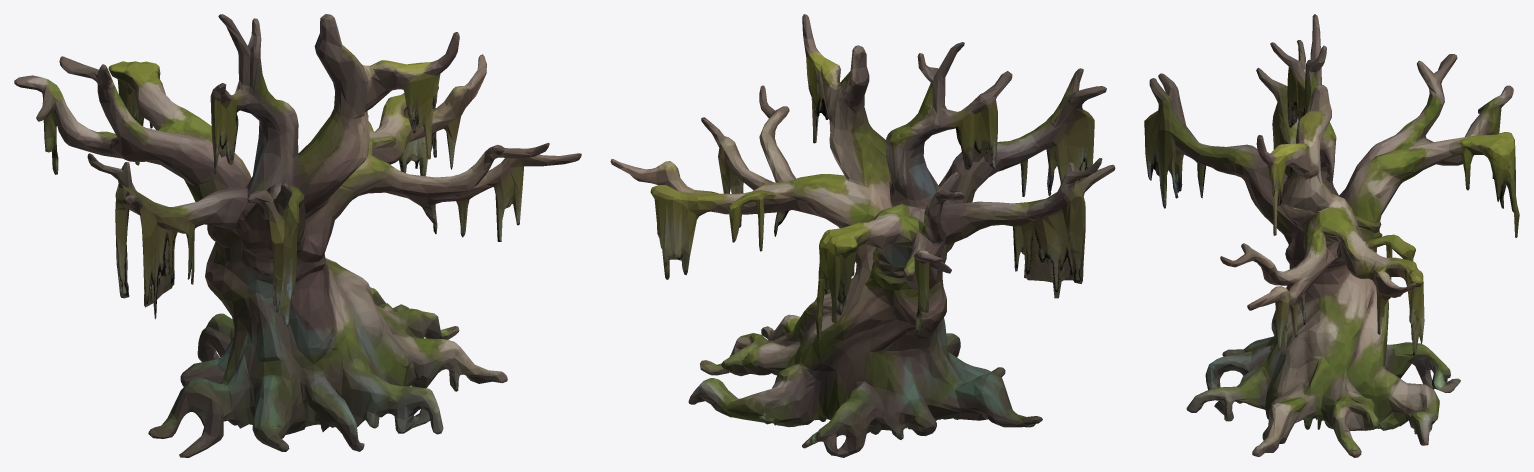
The model's file is dead_tree.glb.
3 views of the same model, side by side, from view 1: azimuth 30°, elevation 25°; view 2: azimuth 150°, elevation 25°; view 3: azimuth 270°, elevation 25° (orthographic). The views are drawn at different scales.
Parts seen in each view (by area): view 1: world; view 2: world; view 3: world.
Boxes of the visible parts, x1,y1,x2,y2 form: world: [14, 14, 581, 457]; world: [610, 14, 1115, 457]; world: [1144, 14, 1519, 457].
Bounding box in the file's own units: 1 × 0.8613 × 0.8318.
1 material, 1 textured.
